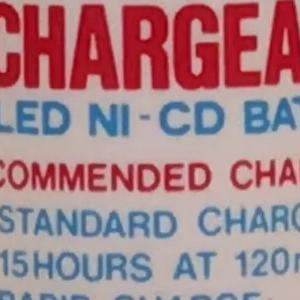keyword: (79, 91, 235, 177)
